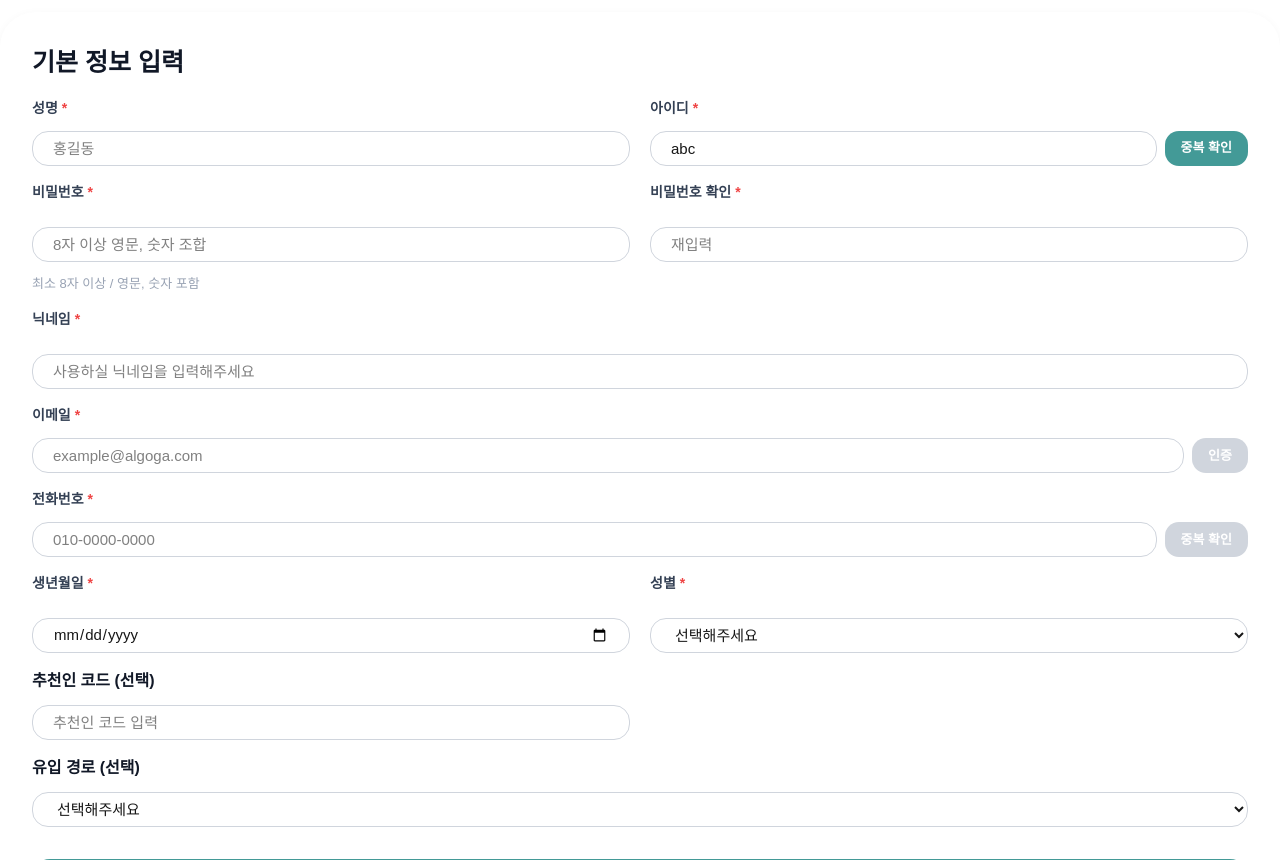
Scenario: RegisterInfoForm 컴포넌트 테스트 › 아이디가 4자 미만이면 중복 확인 요청을 보내지 않고 안내 문구가 보인다
The image size is (1280, 860).
Click the button with aria-label "중복 확인: 사용자 이름 검사": (1206, 148) [1164,130,1248,166]
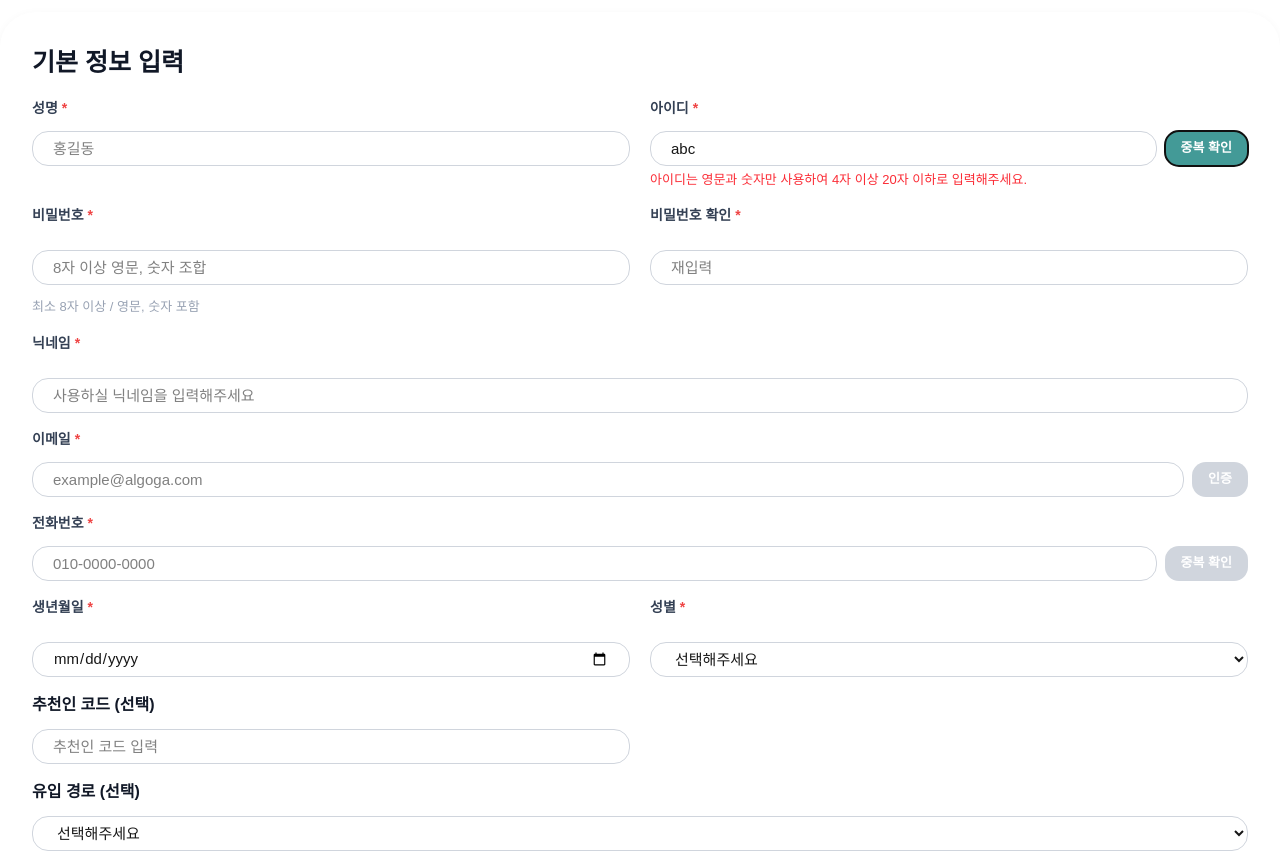
Check: the text "아이디는 영문과 숫자만 사용하여 4자 이상 20자 이하로 입력해주세요." is shown, box [650,172,1027,186]
